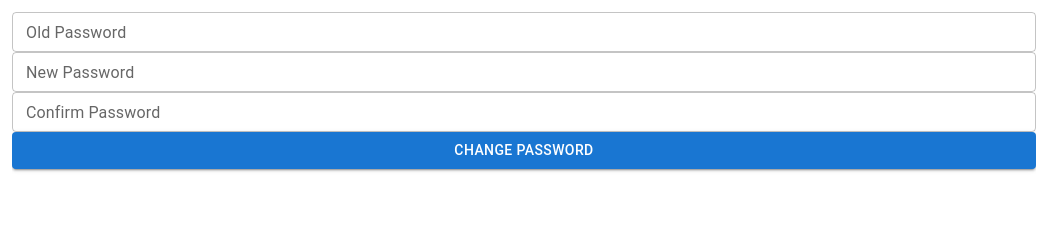
Scenario: Password Change › password doesnt match
The image size is (1048, 237).
Step 1. Type "1163" into the password field labelled "New Password" → (524, 72), box [12,52,1036,92]
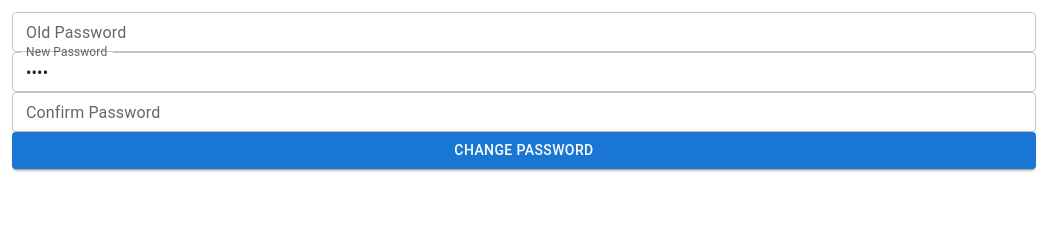
Step 2. Type "1160" into the password field labelled "Confirm Password" → (524, 112), box [12,92,1036,132]
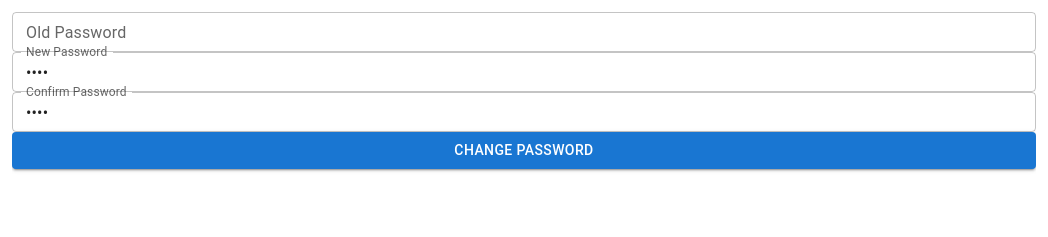
Step 3. Click the button "change password" → click(524, 150), box [12,132,1036,168]
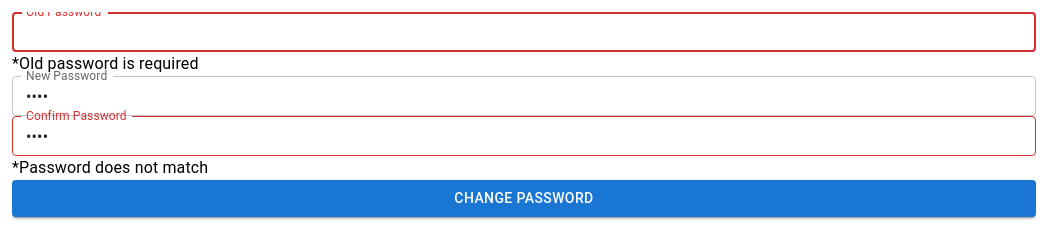
Expected: the text "*Password does not match" is shown, [12,158,208,177]
